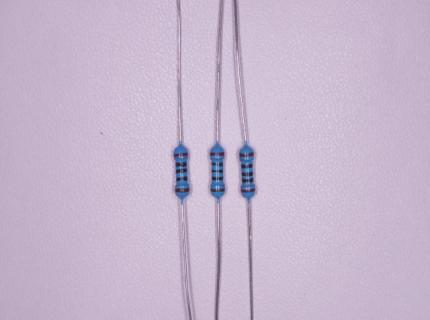Black band: (176, 175, 187, 182), (175, 168, 187, 174), (241, 171, 254, 176), (211, 162, 223, 167), (242, 178, 254, 183), (241, 164, 253, 169), (175, 162, 187, 167), (211, 176, 224, 180), (211, 169, 223, 173)
Brown band: (175, 187, 190, 193), (210, 188, 225, 193), (239, 152, 254, 157)
Red band: (173, 152, 188, 158), (241, 188, 256, 193), (209, 152, 225, 156)
